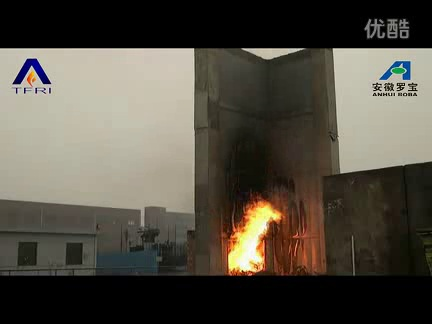fire: (218, 189, 283, 273)
